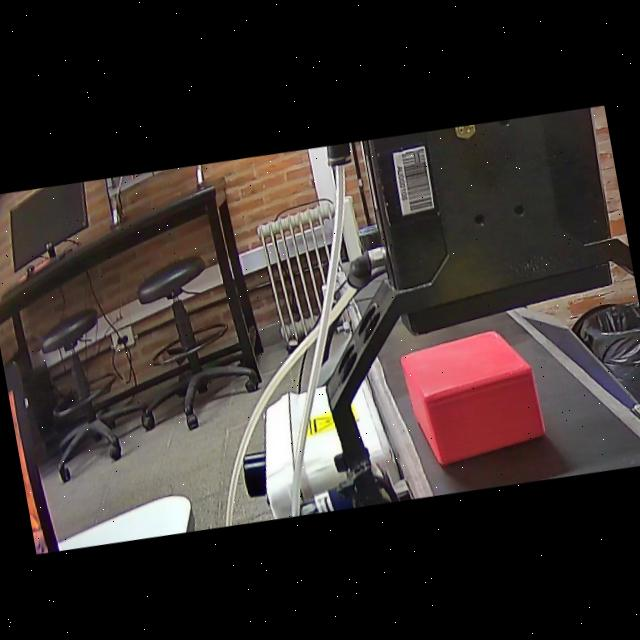redBox: (392, 308, 568, 486)
